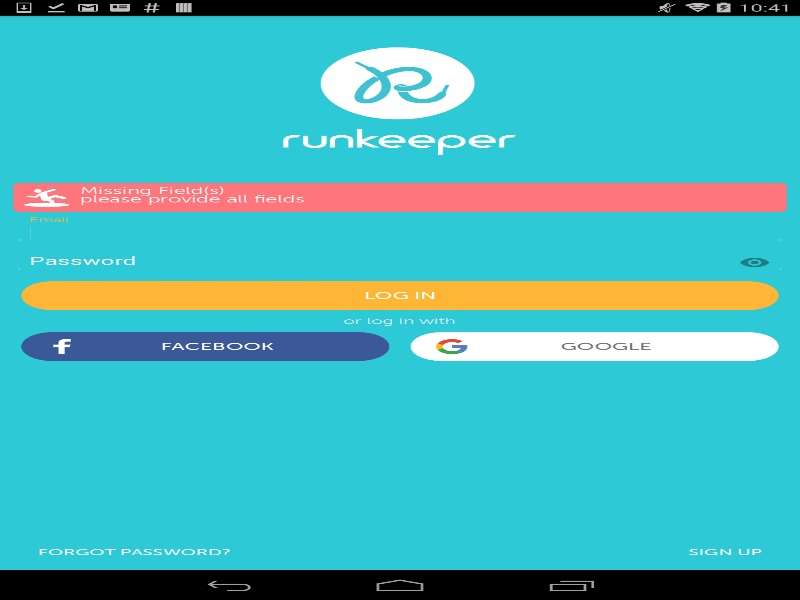Button: (21, 281, 778, 310), (21, 332, 389, 360), (410, 332, 778, 360), (32, 541, 236, 563), (682, 541, 768, 563), (722, 250, 786, 275)
Input: (13, 221, 786, 243), (13, 250, 786, 272)
